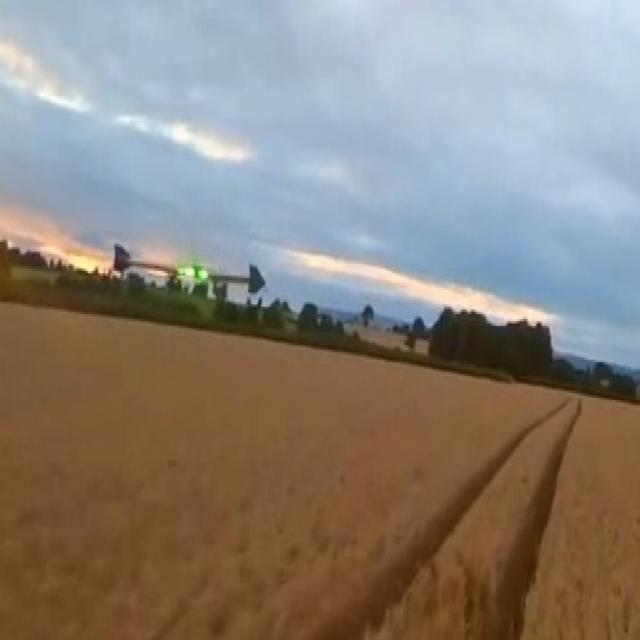iha: (108, 270, 268, 272)
